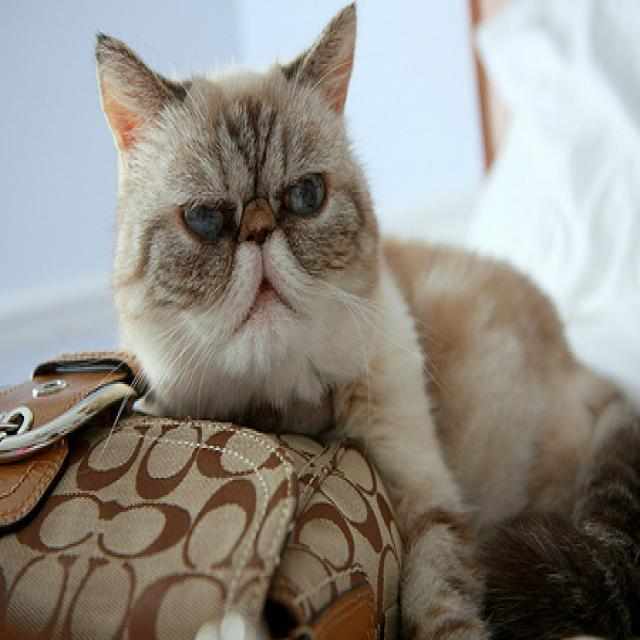Persian: (92, 0, 640, 640)
